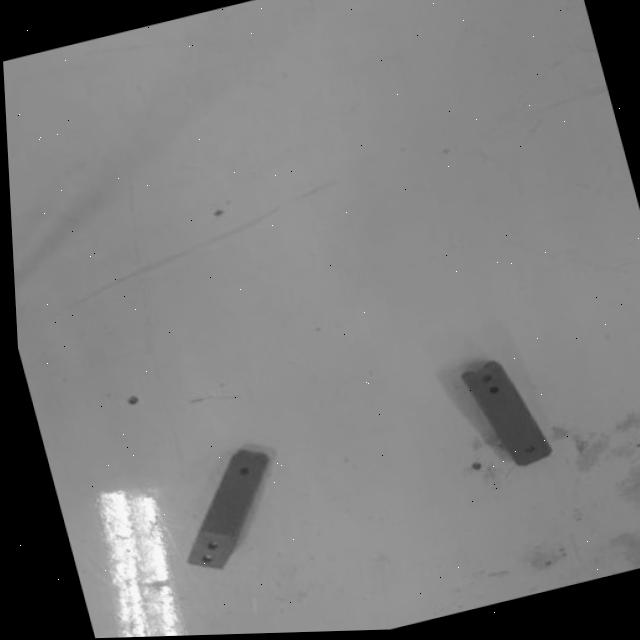grey: (157, 440, 307, 580), (453, 349, 559, 479)
head: (232, 462, 255, 479), (517, 440, 540, 457)
